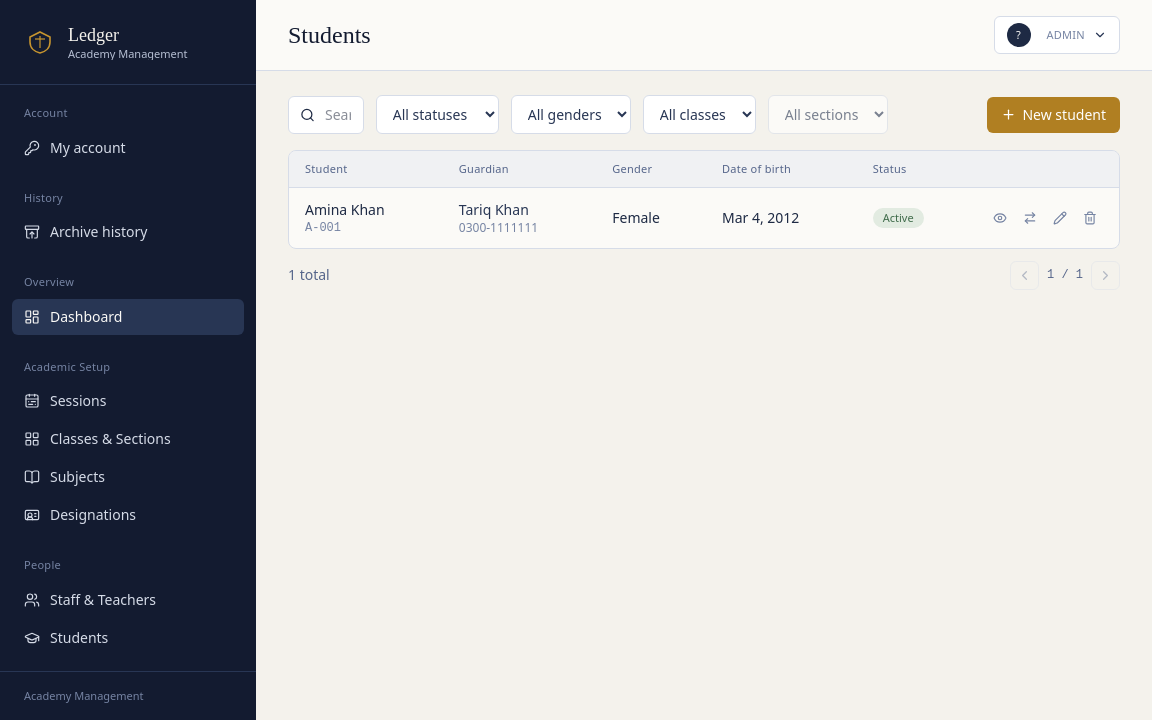
Test: Edit student › hides the enrollment section entirely, matching the backend's separate enroll endpoint
The image size is (1152, 720).
expect the text "Amina Khan" is shown: met, box [305,200,385,219]
Click the button named "Edit" at [1060, 218], box [1047,205,1073,231]
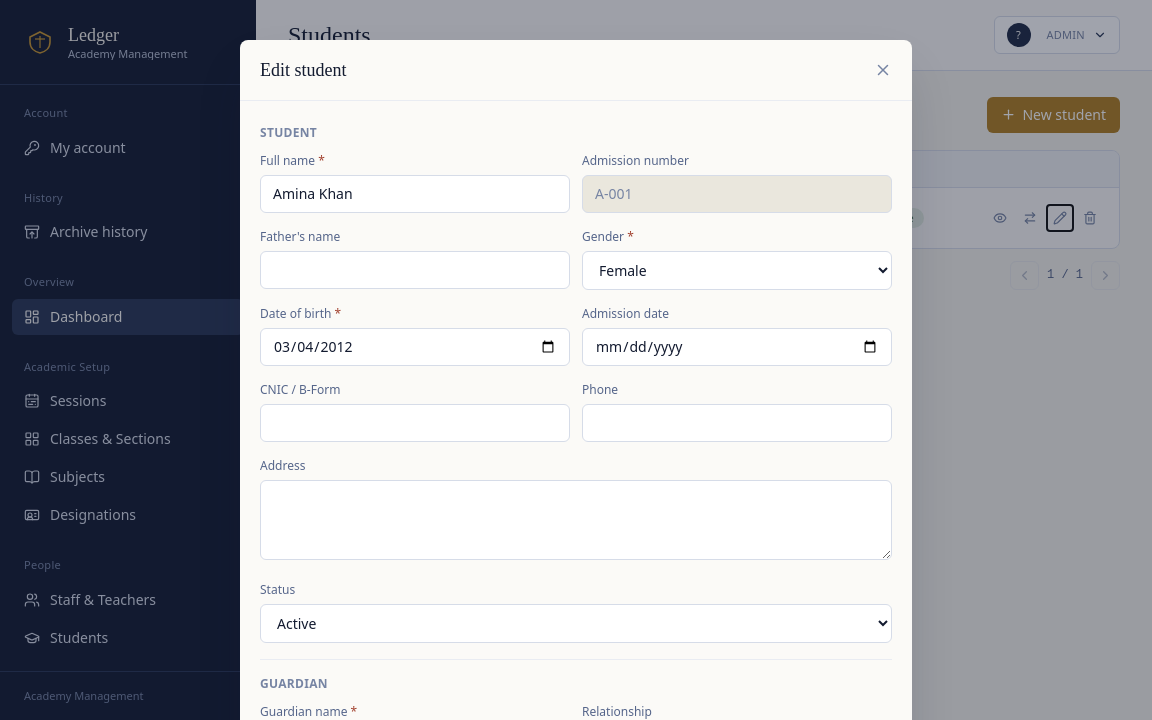
expect the field labelled "Full name *" is shown: met, box [260,175,570,213]
expect the dropdown labelled "Status" is shown: met, box [260,604,892,643]
